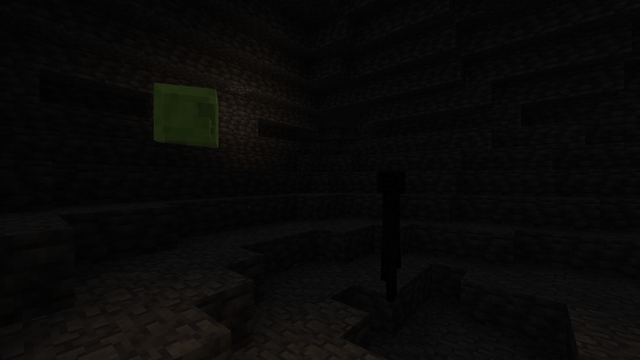endermens: (373, 166, 409, 304)
slimes: (151, 78, 228, 147)
